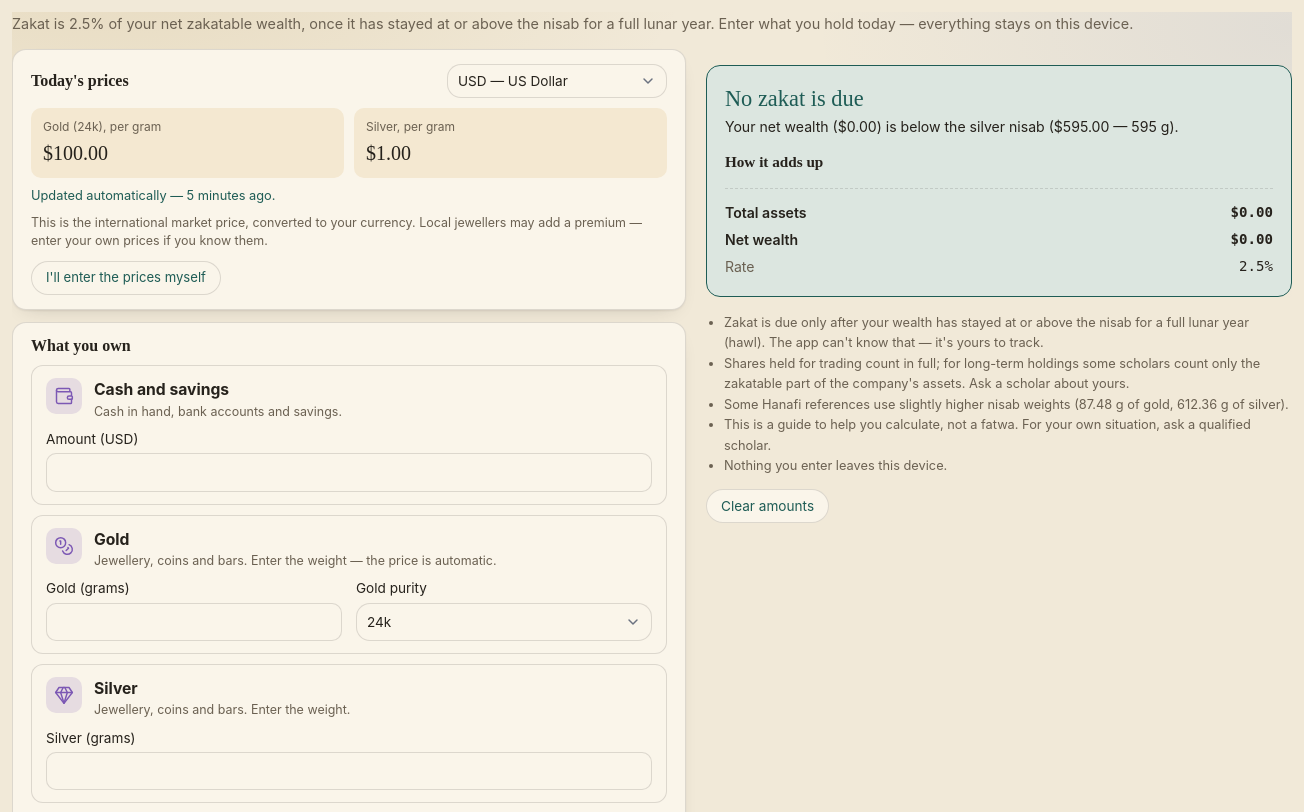
ZakatCalculator — automatic prices › needs no price from the user: cash alone is enough
The image size is (1304, 812).
Type "10000" into the field labelled "Amount (USD)" at (349, 472), box [46,453,652,492]
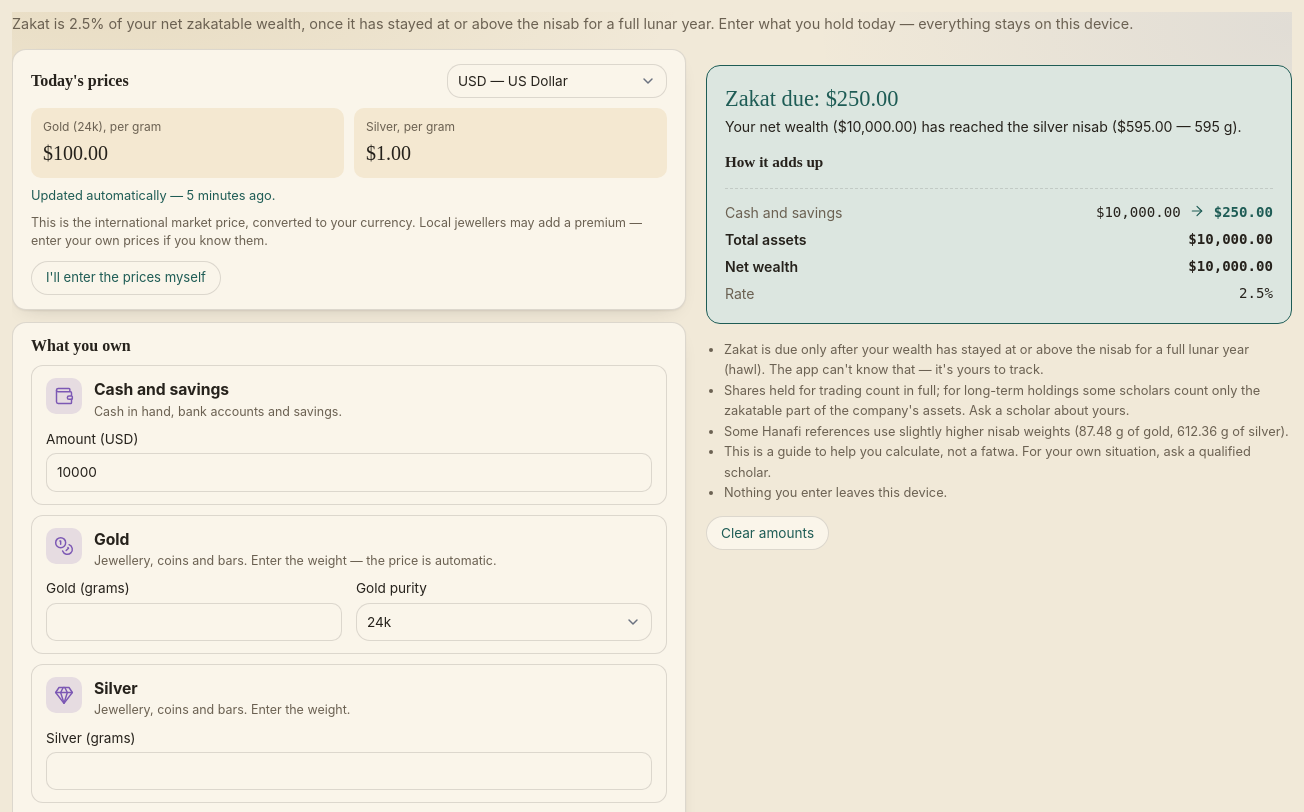
Check: the element with class "zakat-result" shows "Zakat due: $250.00", box [725,86,898,111]
Check: the element with class "zakat-result" shows "has reached the silver nisab ($595.00 — 595 g)", box [725,118,1242,135]
